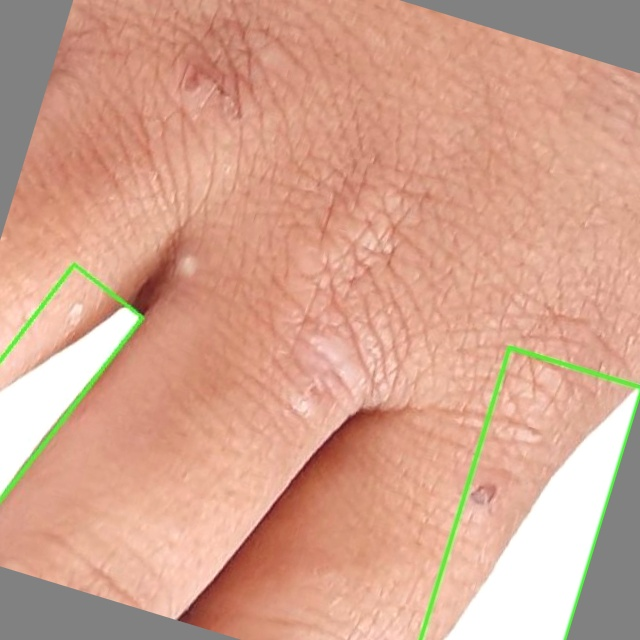Scabies: (420, 347, 639, 639), (0, 263, 147, 533)
